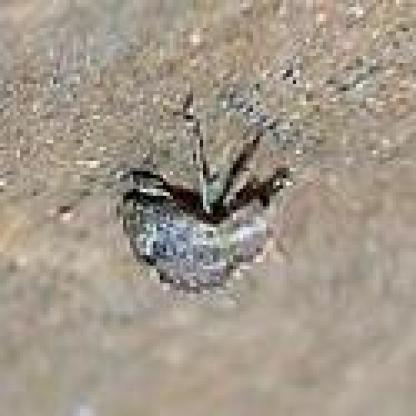rice-bug: (117, 112, 294, 296)
